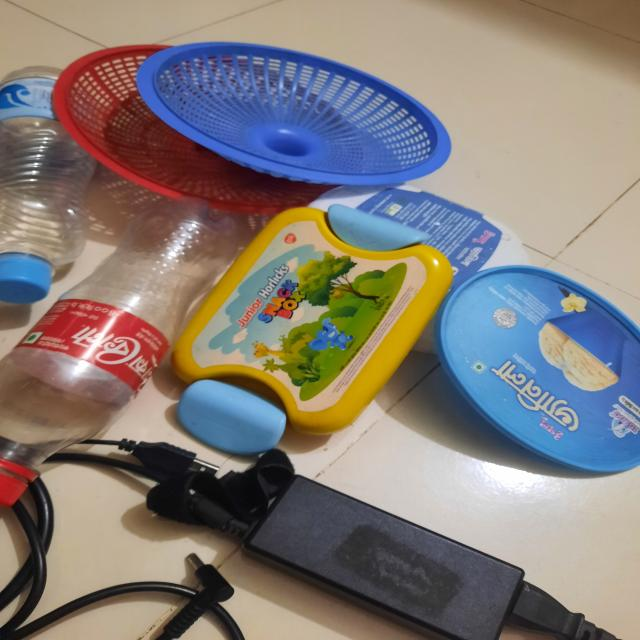Cable: (0, 478, 256, 640)
Plastics: (0, 27, 640, 467)
